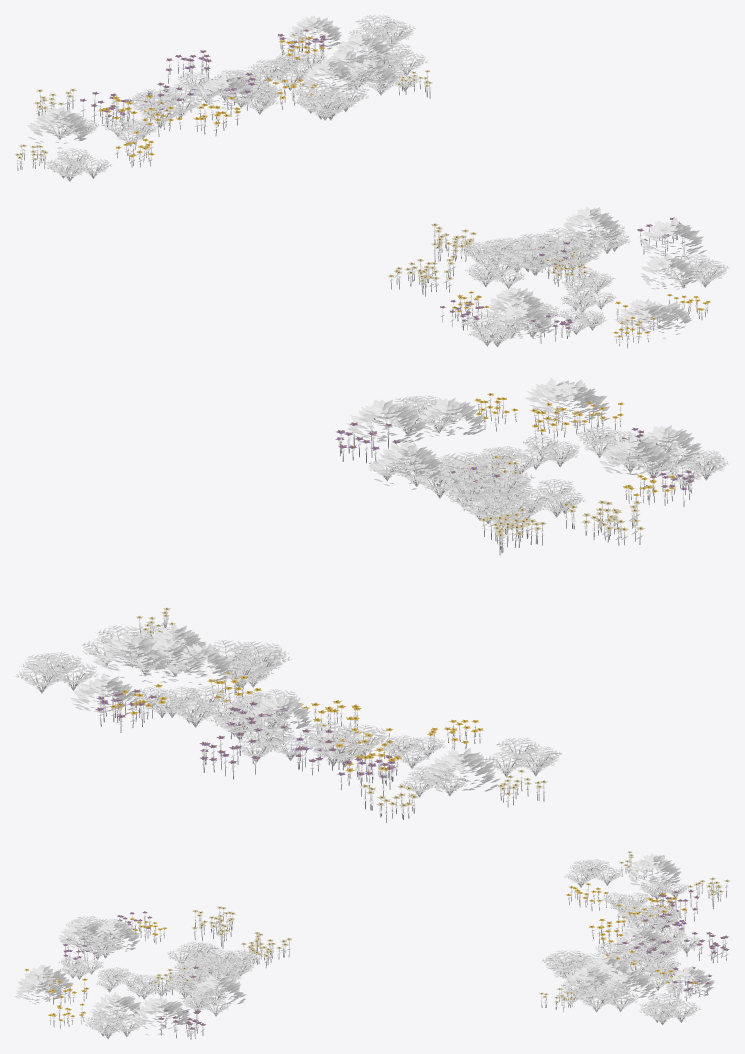
The model's file is SM_DF_Explorer_2_3_Flora.fbx.
The picture shows the model from 3 angles, top to bottom: view 1: azimuth 30°, elevation 25°; view 2: azimuth 150°, elevation 25°; view 3: azimuth 270°, elevation 25°; orthographic projection. The views are drawn at different scales.
Visible parts, largest first — view 1: SM_DF_Explorer_2_3_Flora; view 2: SM_DF_Explorer_2_3_Flora; view 3: SM_DF_Explorer_2_3_Flora.
Boxes of the visible parts, box(x1,y1,x2,y2) form: SM_DF_Explorer_2_3_Flora: box(14, 14, 729, 348); SM_DF_Explorer_2_3_Flora: box(14, 377, 728, 822); SM_DF_Explorer_2_3_Flora: box(14, 851, 730, 1039).
Size of the model in its own units: 1558 by 2535 by 182.
